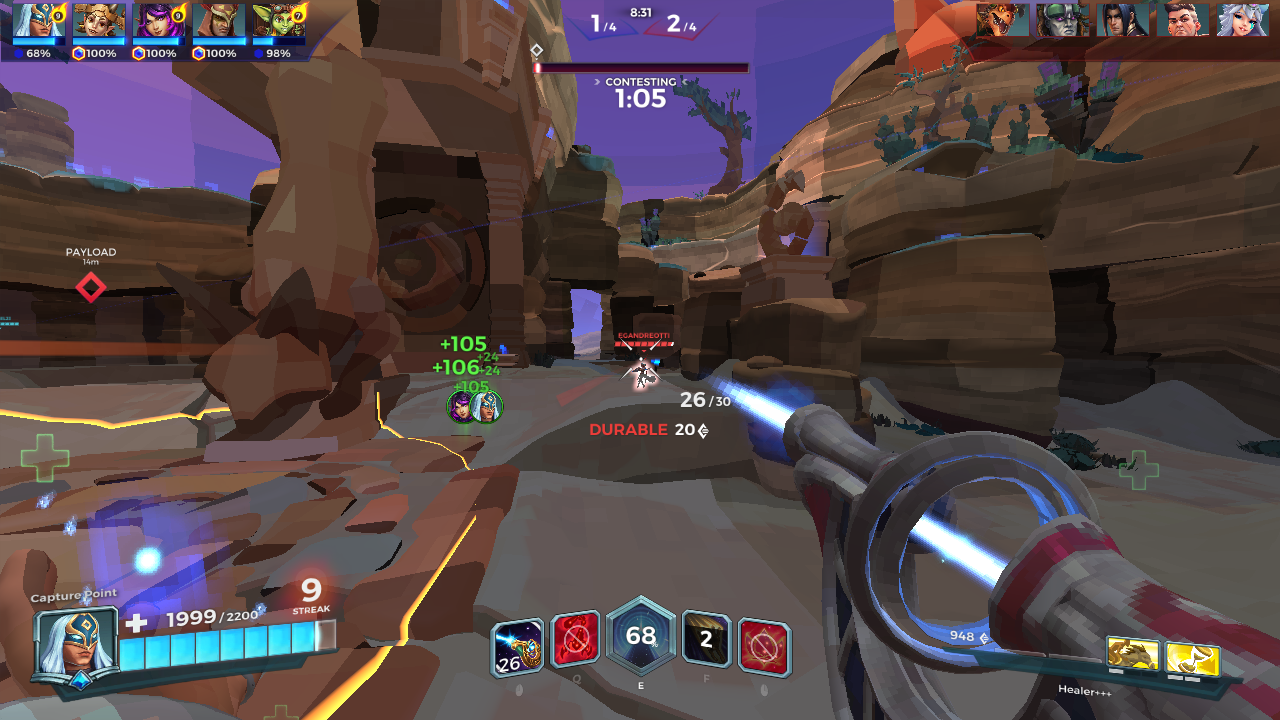model: (633, 359, 654, 392)
